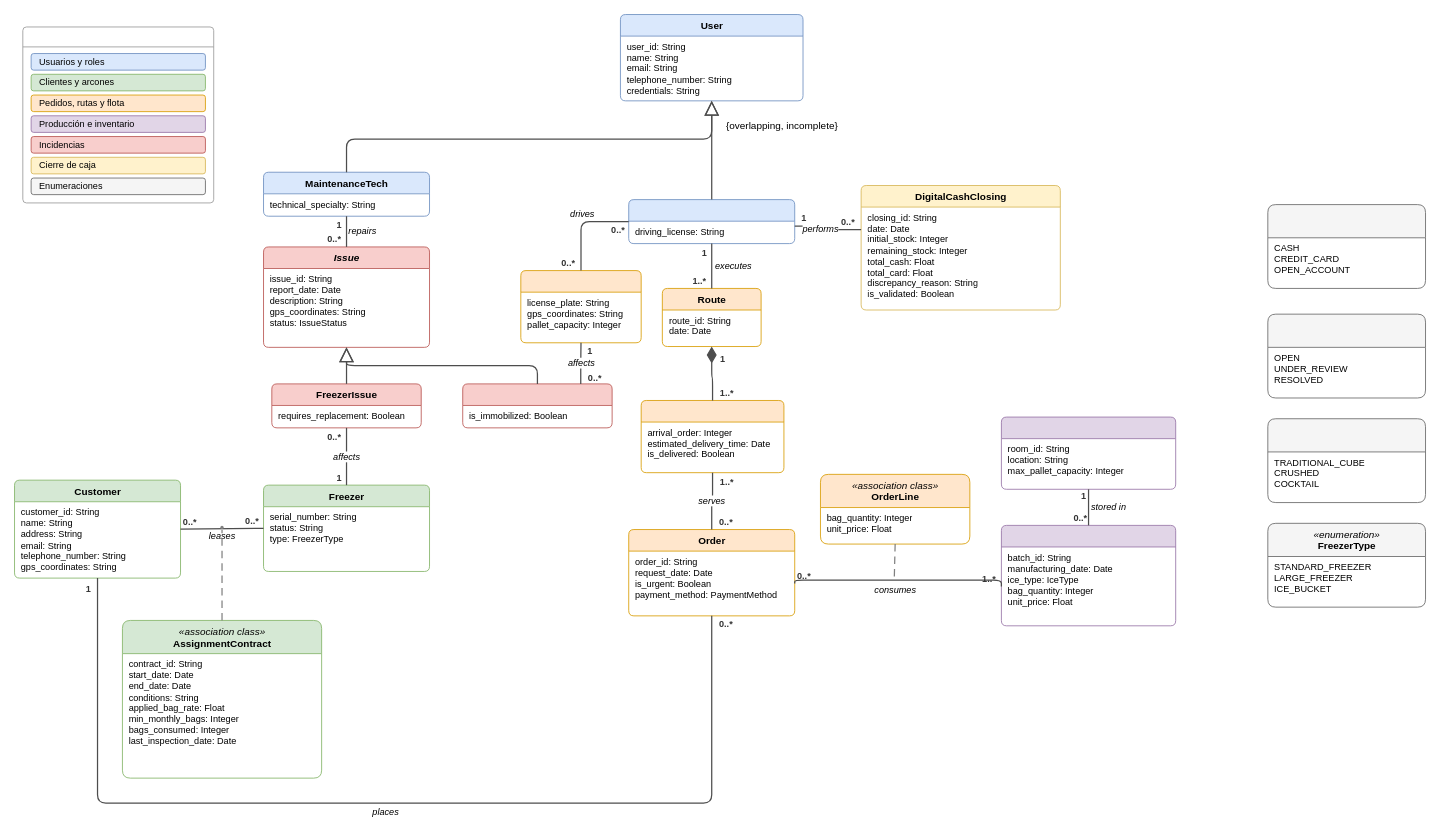
Image size: 1440x832. Some labels were removed from this diagram. Here are the shapes that lost their labels. From the top down, the box of each, then its label:
(22, 26, 214, 203): Leyenda
(628, 199, 795, 244): DeliveryDriver
(1267, 204, 1426, 288): «enumeration» PaymentMethod
(520, 270, 641, 343): Vehicle
(1267, 313, 1426, 398): «enumeration» IssueStatus
(462, 383, 612, 428): VehicleIssue
(640, 400, 784, 473): RouteStop
(1001, 416, 1176, 489): ColdRoom
(1267, 418, 1426, 503): «enumeration» IceType
(1001, 525, 1176, 626): IceBatch
